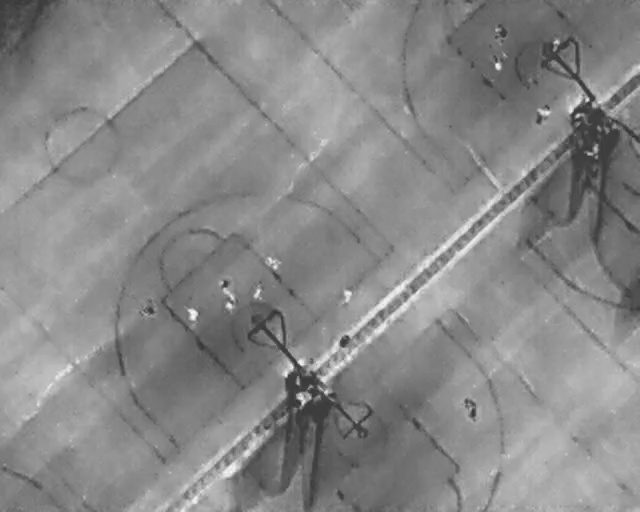Person: (212, 275, 243, 306), (529, 98, 554, 128), (460, 394, 480, 423), (489, 19, 511, 41), (261, 253, 282, 272), (250, 281, 267, 303), (138, 301, 157, 320), (491, 52, 507, 72), (339, 285, 355, 305), (184, 305, 199, 324), (338, 333, 353, 349), (551, 36, 562, 53), (223, 299, 235, 314)
